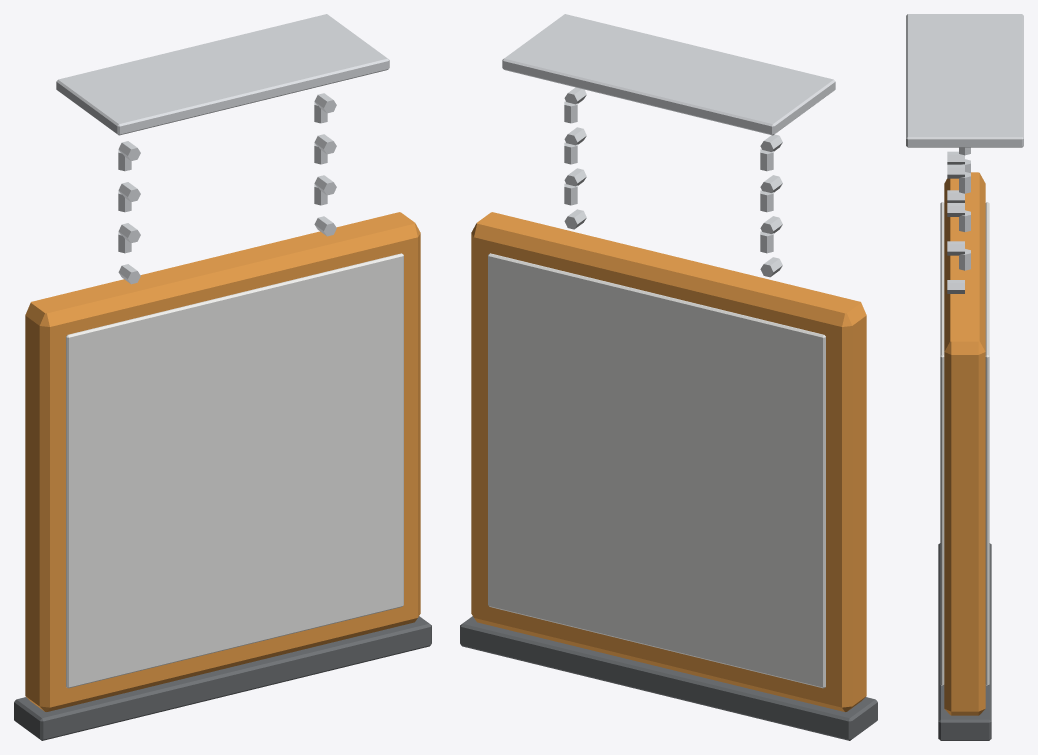
The model's file is hanging-aisle-number-panel.glb.
3 renders of one model, left to right at view 1: azimuth 30°, elevation 25°; view 2: azimuth 150°, elevation 25°; view 3: azimuth 270°, elevation 25°, orthographic. The views are drawn at different scales.
Parts seen in each view (by area): view 1: hanging-aisle-number; view 2: hanging-aisle-number; view 3: hanging-aisle-number.
Part boxes in pixels (x1,y1,x2,y2): hanging-aisle-number: (14, 14, 431, 740); hanging-aisle-number: (460, 14, 877, 740); hanging-aisle-number: (906, 14, 1023, 740).
Size of the model in its own units: 0.72 by 1.08 by 0.2.
